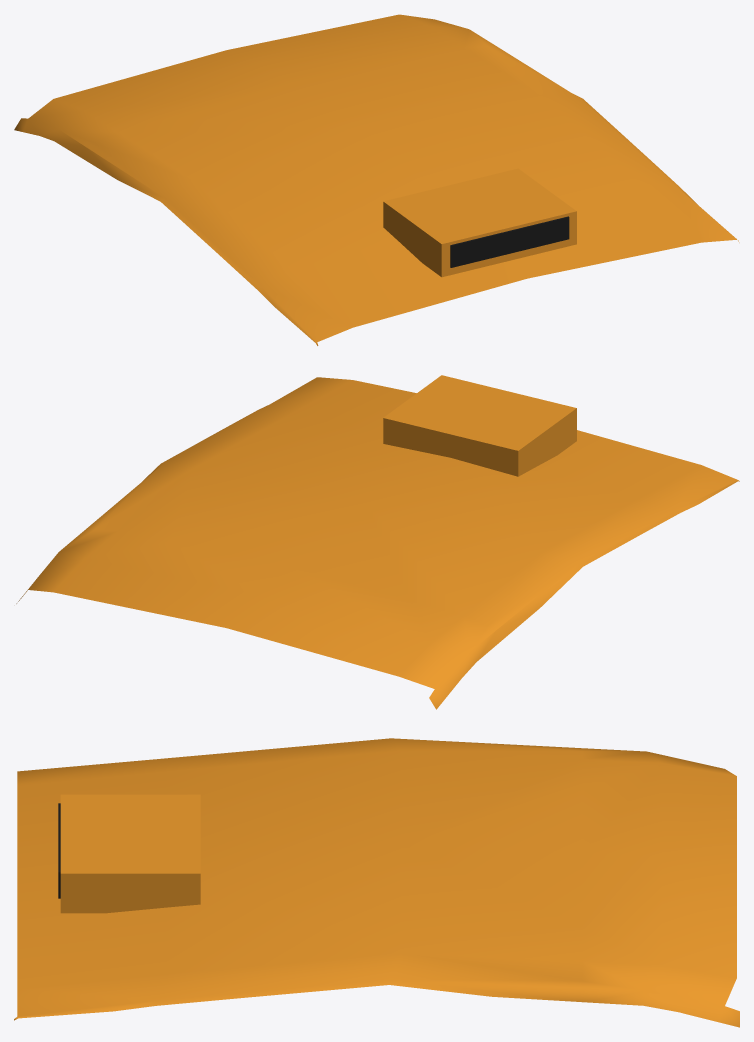
Rendered from protoCompact_roof_hayate.glb.
3 views of the same model, one above another, from view 1: azimuth 30°, elevation 25°; view 2: azimuth 150°, elevation 25°; view 3: azimuth 270°, elevation 25° (orthographic). The views are drawn at different scales.
Visible parts, largest first — view 1: roof_hayate; view 2: roof_hayate; view 3: roof_hayate.
Boxes of the visible parts, <box> form: roof_hayate: <box>14,14,739,345</box>; roof_hayate: <box>16,375,739,709</box>; roof_hayate: <box>14,738,739,1027</box>.
Bounding box in the file's own units: 1 × 0.133 × 1.25.
